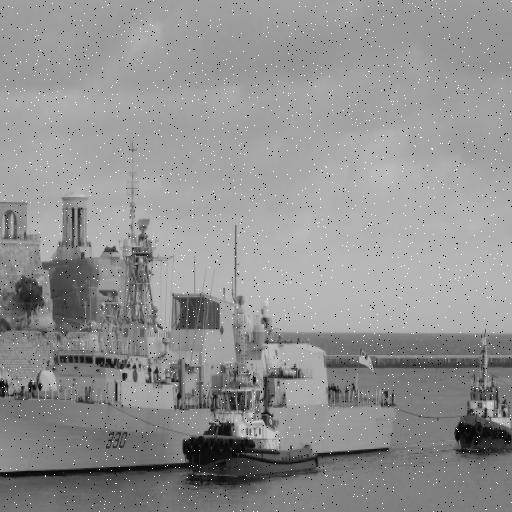Fragata: (1, 125, 401, 485)
